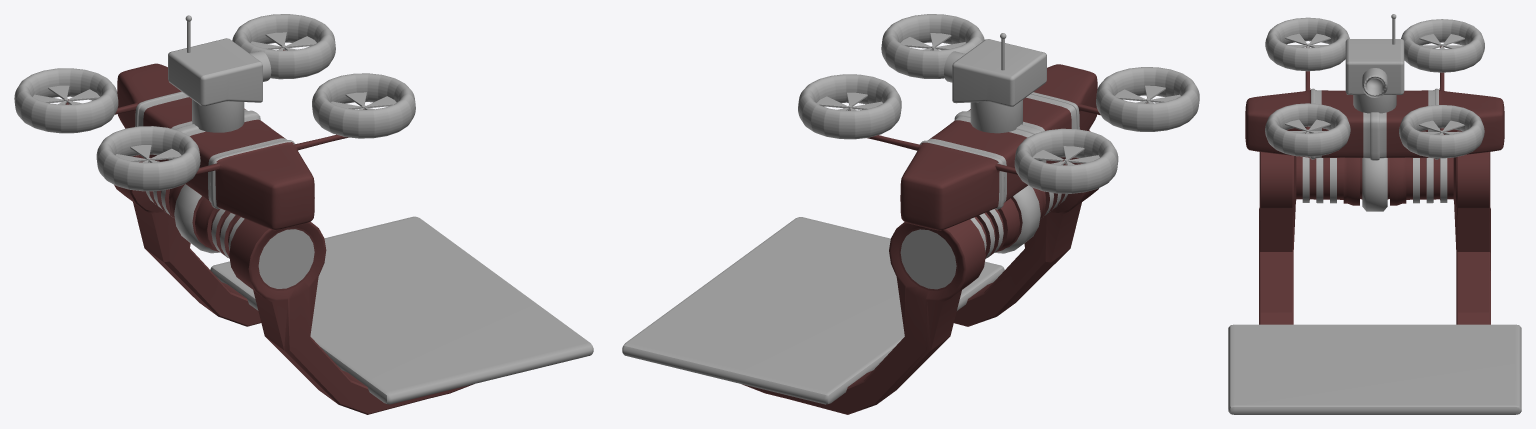
File: newdrone.fbx
3 renders of one model, left to right at view 1: azimuth 30°, elevation 25°; view 2: azimuth 150°, elevation 25°; view 3: azimuth 270°, elevation 25°, orthographic. The views are drawn at different scales.
Visible parts, largest first — view 1: pCube4; view 2: pCube4; view 3: pCube4.
Boxes of the visible parts, x1=… form: pCube4: x1=14, y1=14, x2=593, y2=414; pCube4: x1=622, y1=14, x2=1199, y2=414; pCube4: x1=1228, y1=14, x2=1521, y2=414.
Bounding box in the file's own units: 3.64 × 2.85 × 2.55.
